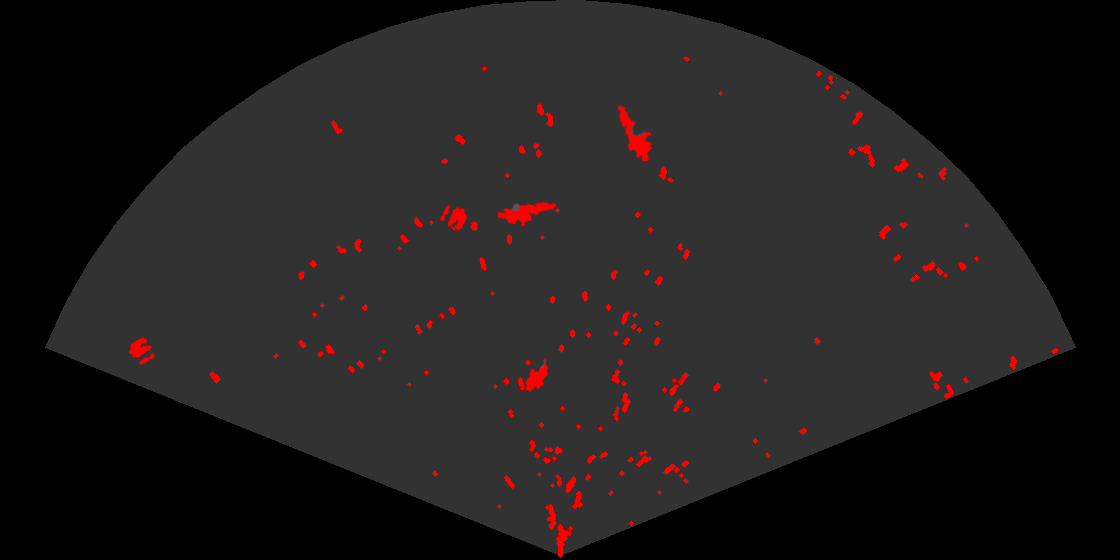AUV: (523, 357, 550, 394)
ball: (127, 336, 157, 366), (438, 203, 469, 232)
frogman: (616, 103, 654, 161), (498, 201, 557, 229)
